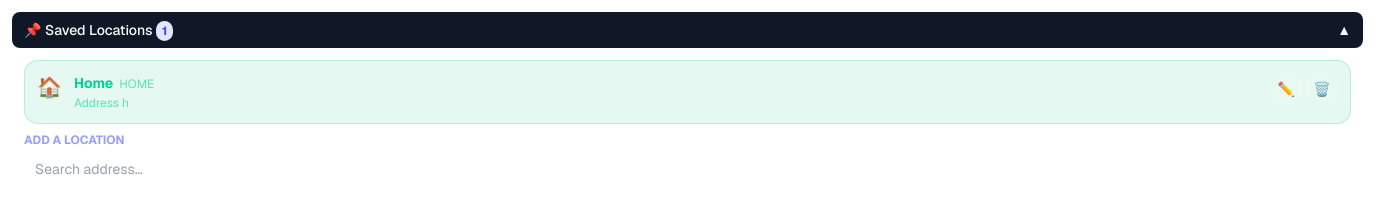
it: SavedLocationsPanel › Rename › shows the rename input when the edit button is clicked
The width and height of the screenshot is (1378, 202).
Click the button titled "Rename": [1286, 89] box [1270,73,1302,105]
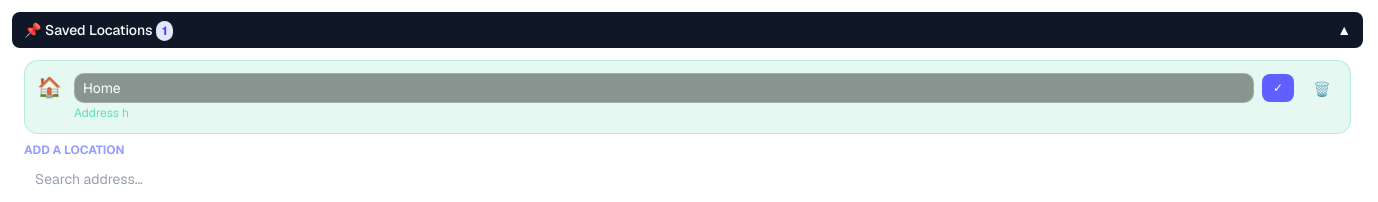
Check: the field showing "Home" is shown, box [74,73,1254,103]
